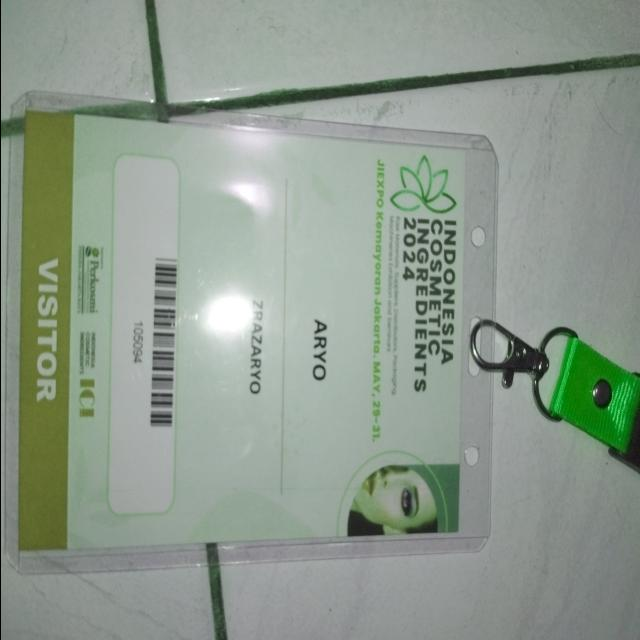ID_card: (14, 99, 498, 561)
